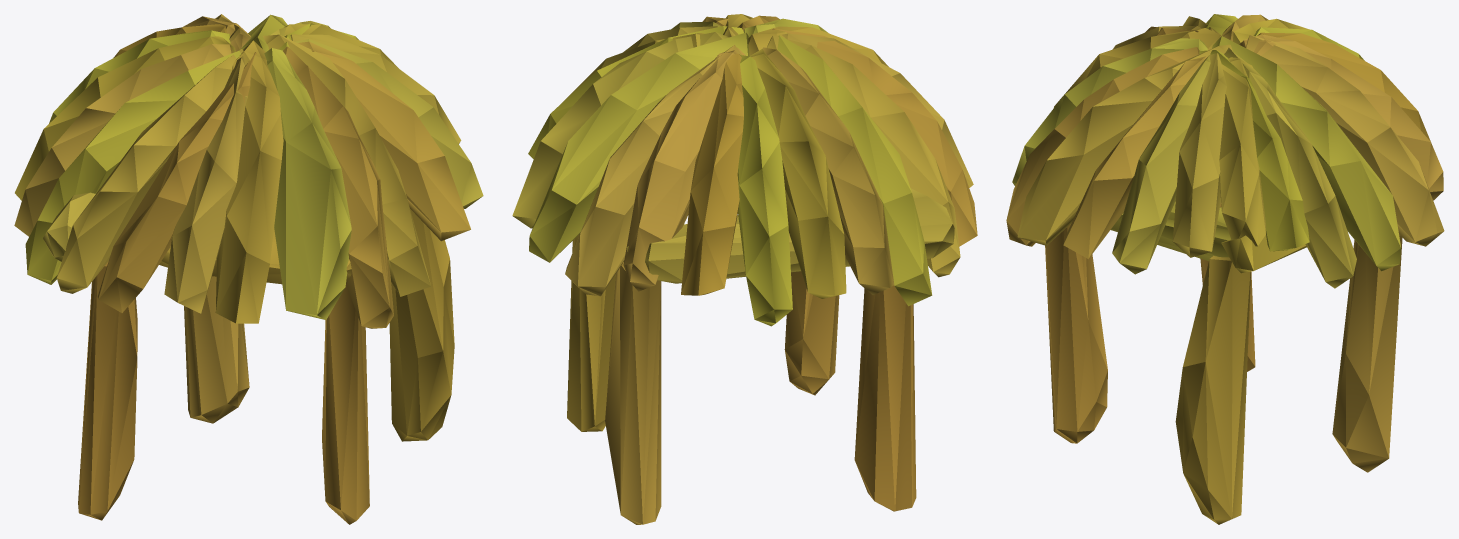
Rendered from hairhut.fbx.
3 renders of one model, left to right at view 1: azimuth 30°, elevation 25°; view 2: azimuth 150°, elevation 25°; view 3: azimuth 270°, elevation 25°, orthographic. The views are drawn at different scales.
Visible parts, largest first — view 1: hairhut; view 2: hairhut; view 3: hairhut.
Part boxes in pixels (box(x1,y1,x2,y2)): hairhut: box(14, 14, 483, 524); hairhut: box(512, 14, 977, 524); hairhut: box(1006, 14, 1444, 524).
Bounding box in the file's own units: 6.47 × 6.92 × 6.52.
